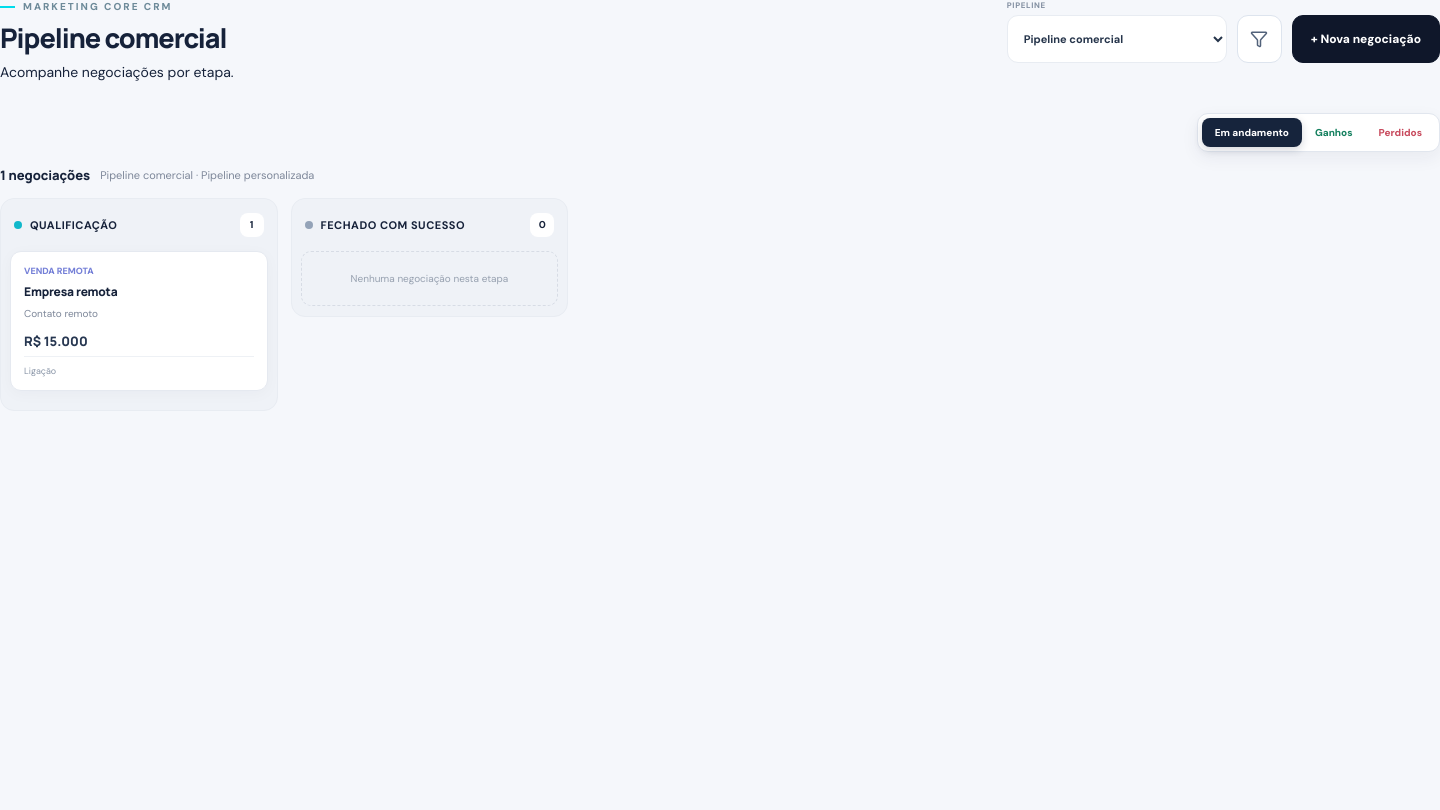
persistência remota das negociações na Pipeline › aguarda a edição remota e mantém o editor aberto quando a atualização falha
Click the button with test id "deal-card-deal-1" at (139, 321), box [10, 251, 268, 391]
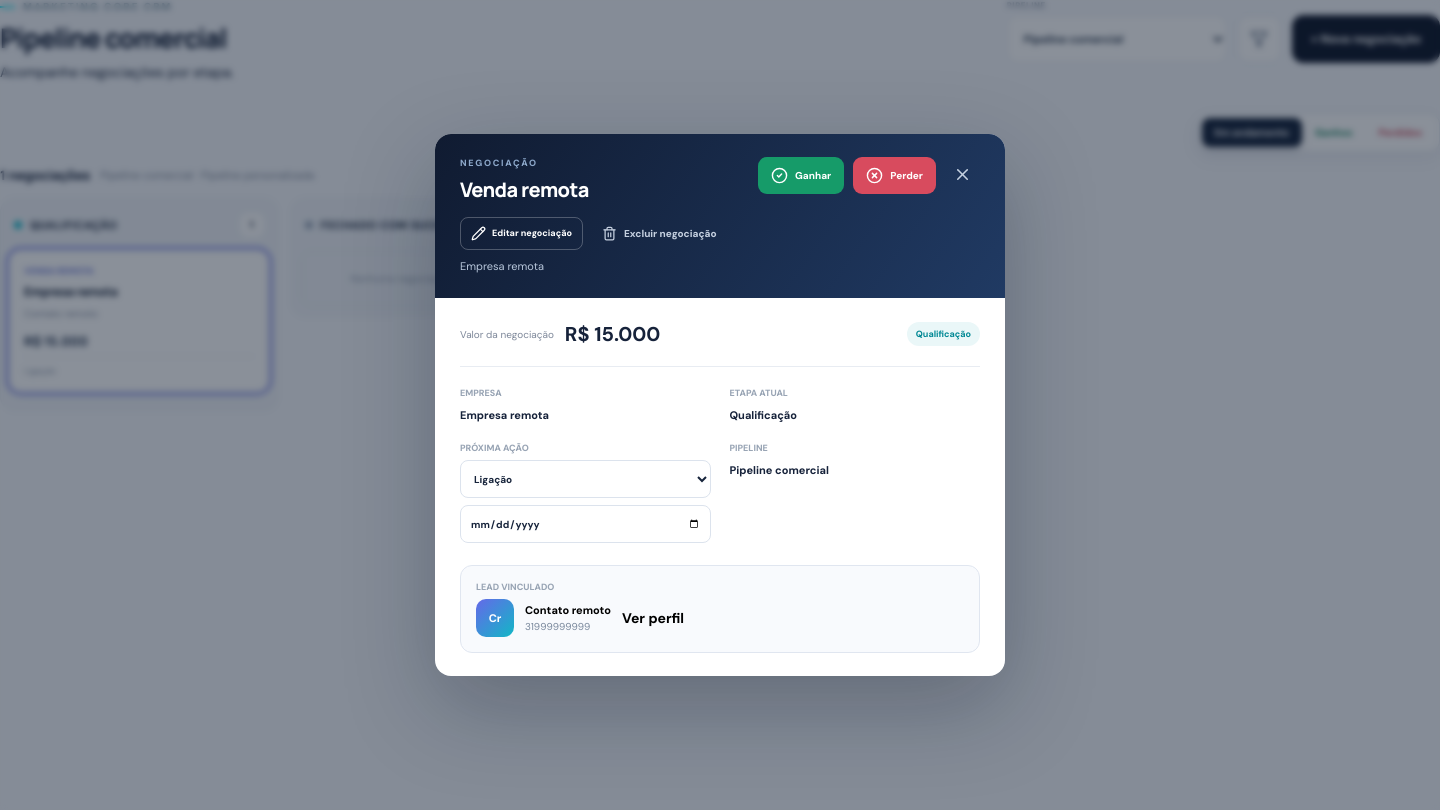
Click the button "Editar negociação" at (522, 234), box [460, 217, 583, 250]
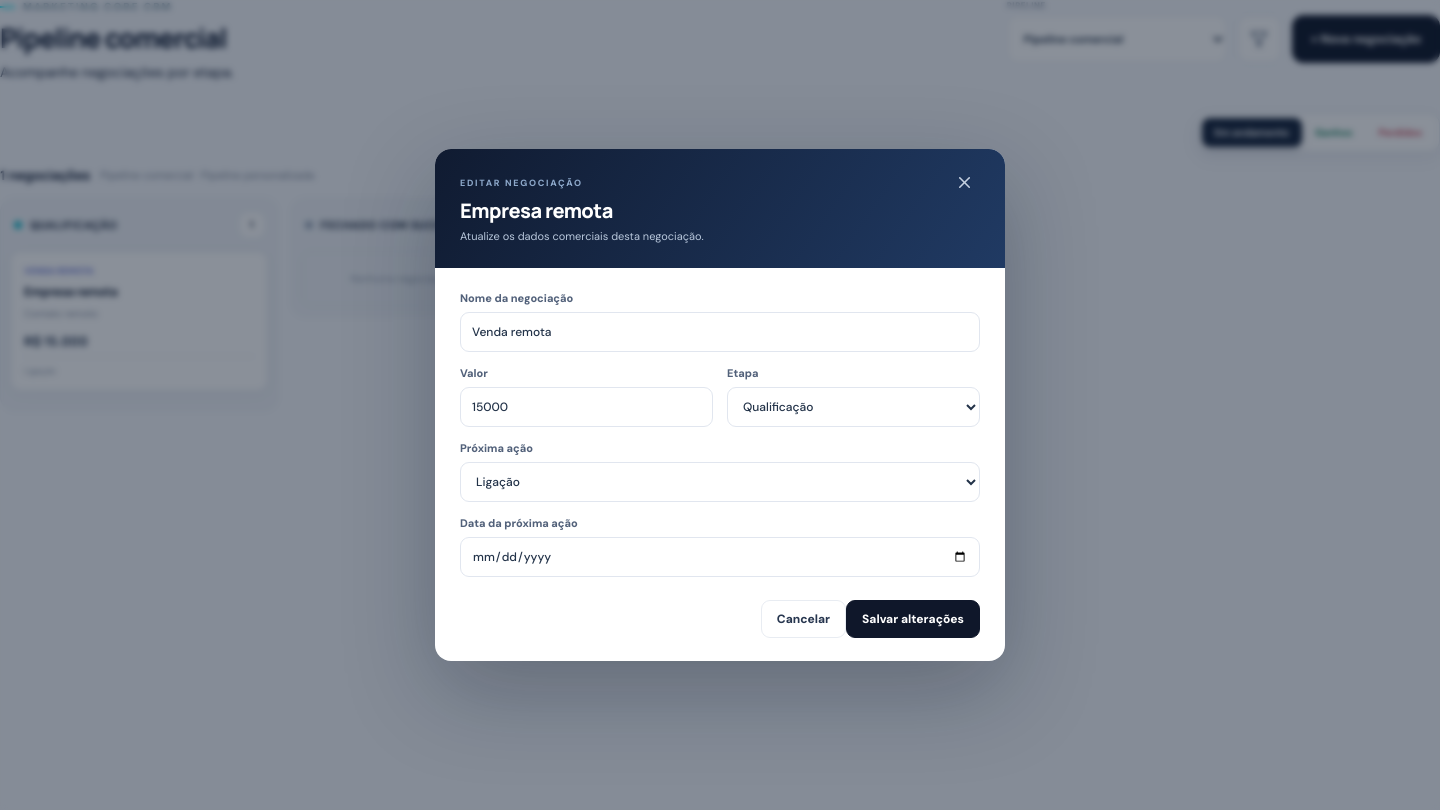
Replace the text in the field showing "Venda remota" with "Venda alterada" at (720, 332), box [460, 312, 980, 352]
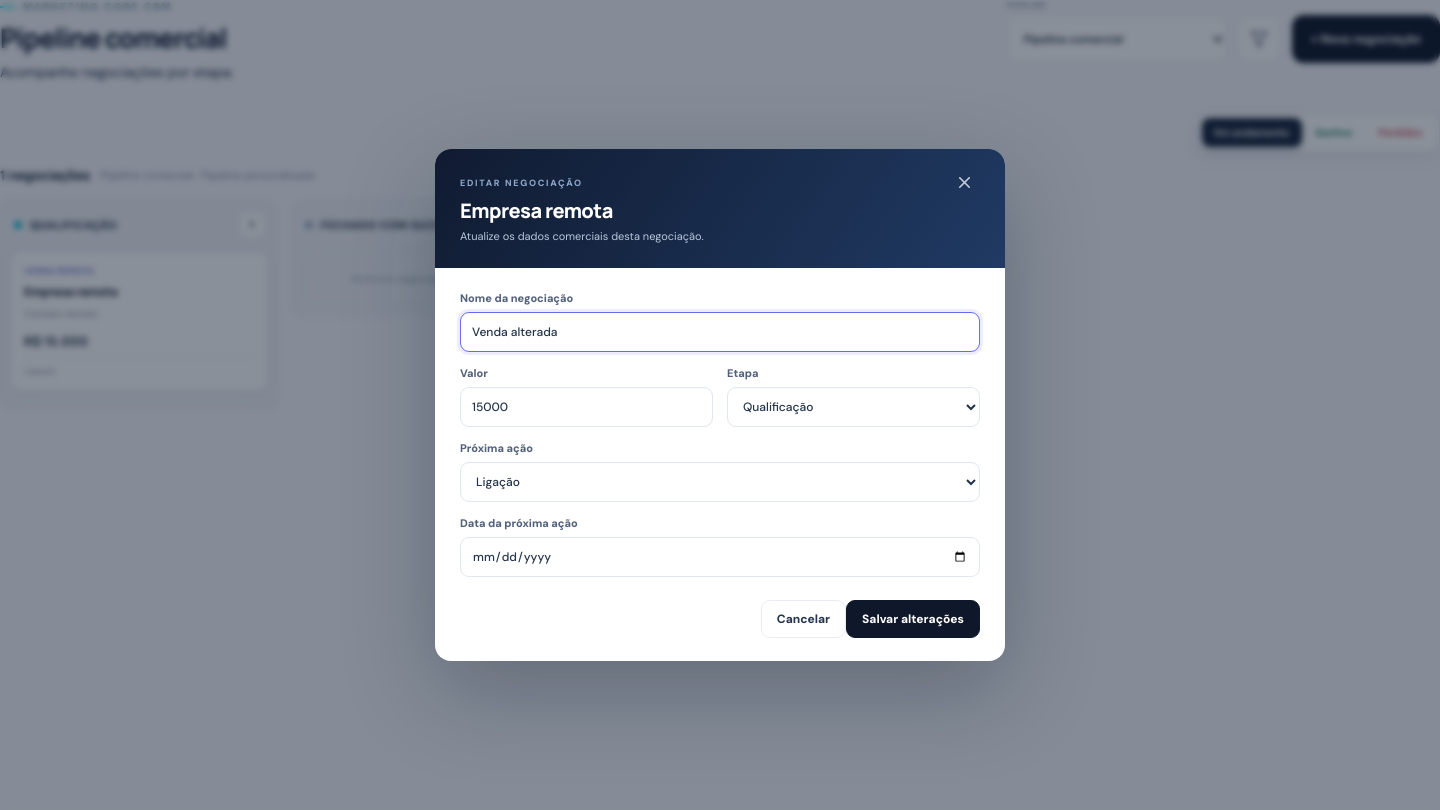
Click the button "Salvar alterações" at (913, 619), box [846, 600, 980, 638]
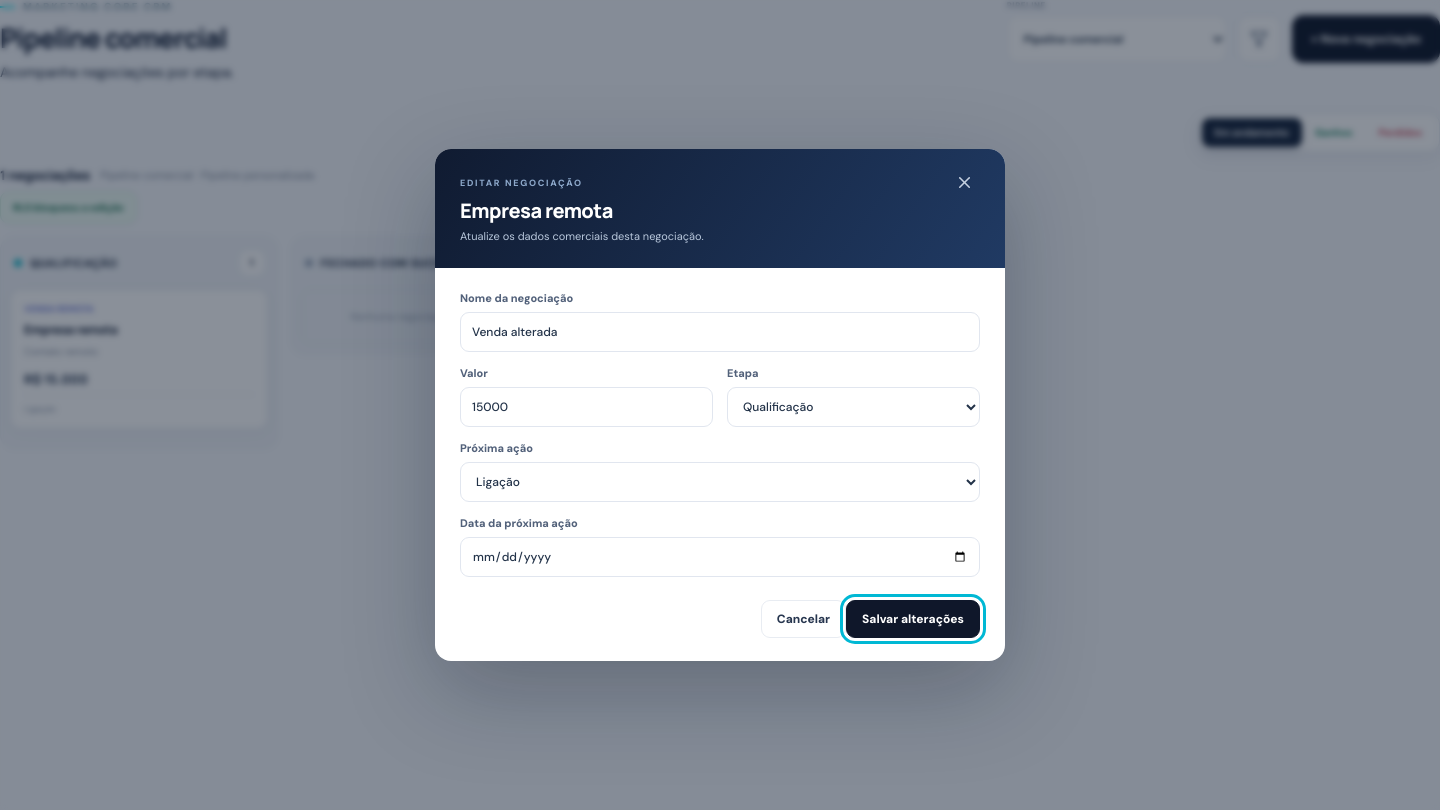
Check: the dialog "EDITAR NEGOCIAÇÃO" is shown, box [435, 149, 1005, 661]
Check: the message reads "RLS bloqueou a edição", box [13, 201, 124, 214]
